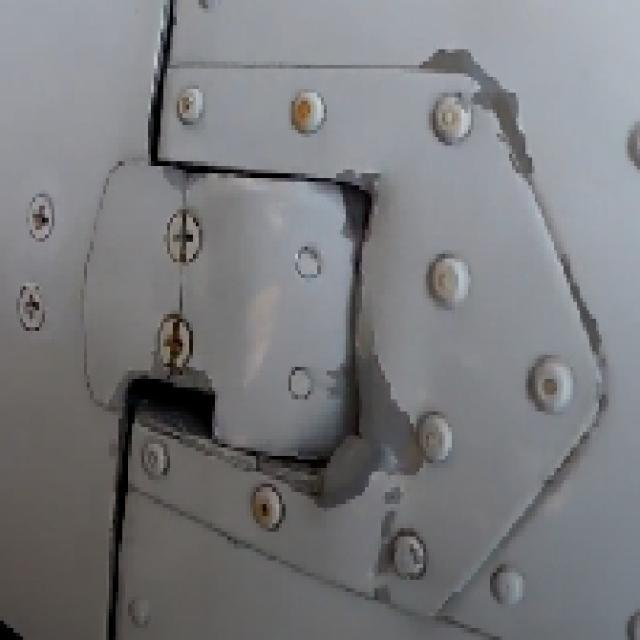crack: (166, 268, 194, 318)
